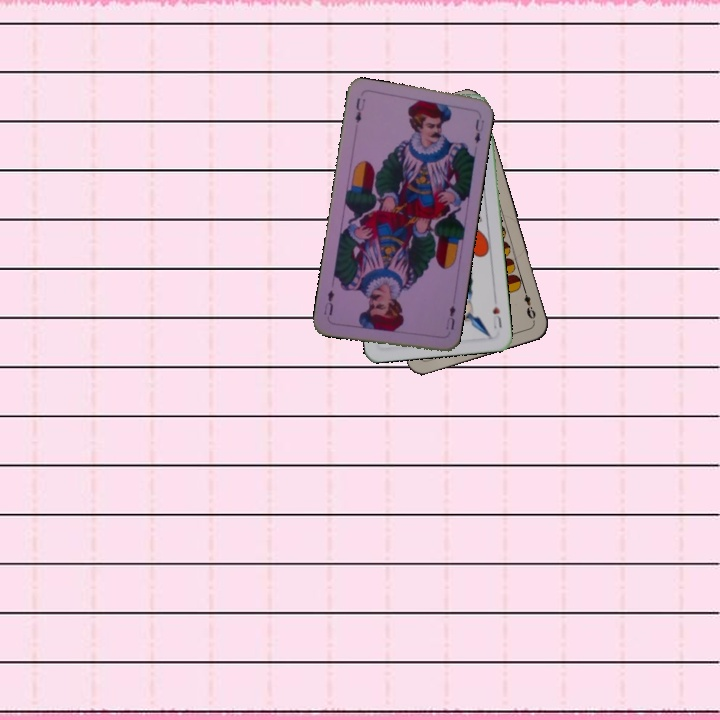E9: (519, 284, 538, 324)
EU: (351, 94, 368, 126), (442, 301, 458, 332)
HU: (489, 302, 505, 331)
